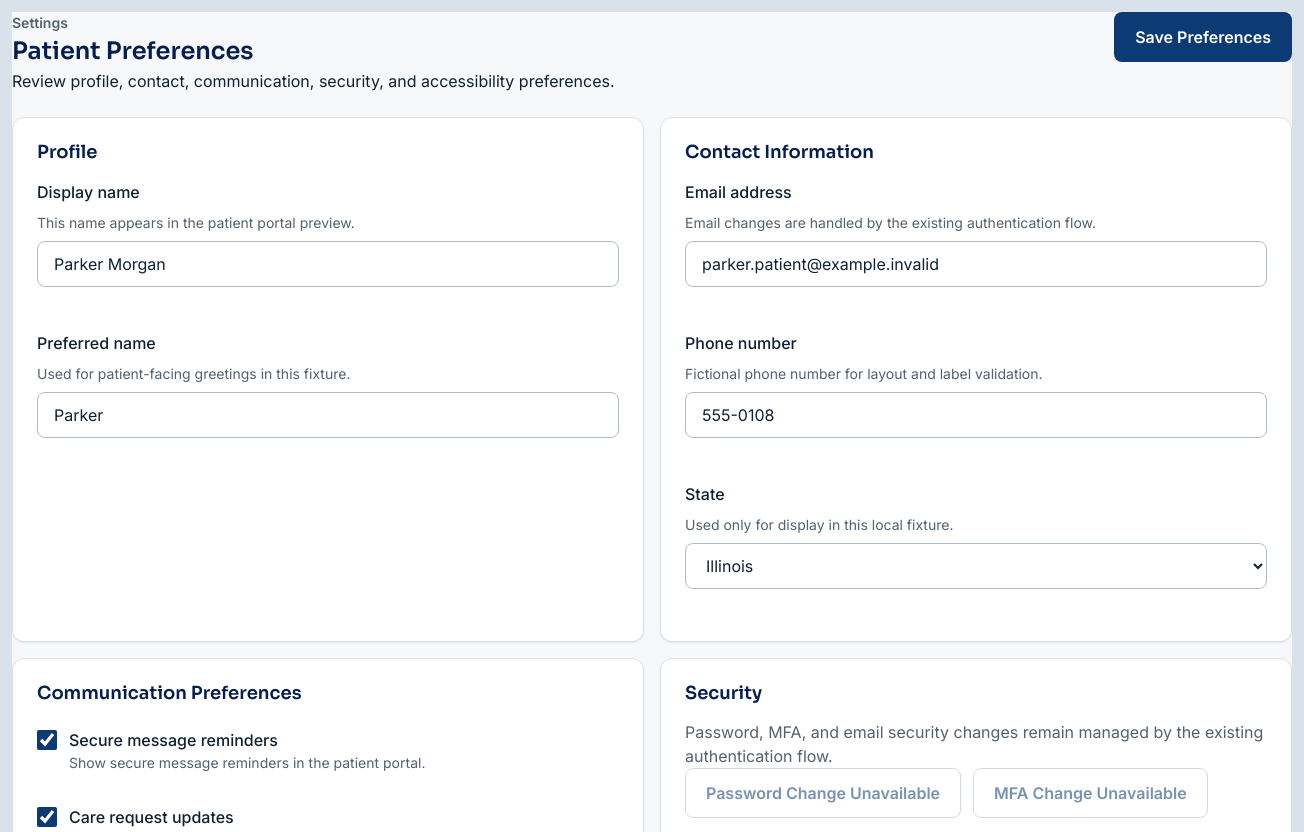
Test: billing and settings safeguards › uses associated settings labels and announces save confirmation
Check: the field labelled "Display name" holds "Parker Morgan", box [38,242,618,286]
Check: the field labelled "Email address" holds "parker.patient@example.invalid", box [686,242,1266,286]
Click the button "Save Preferences": (1203, 37) [1114,12,1292,62]
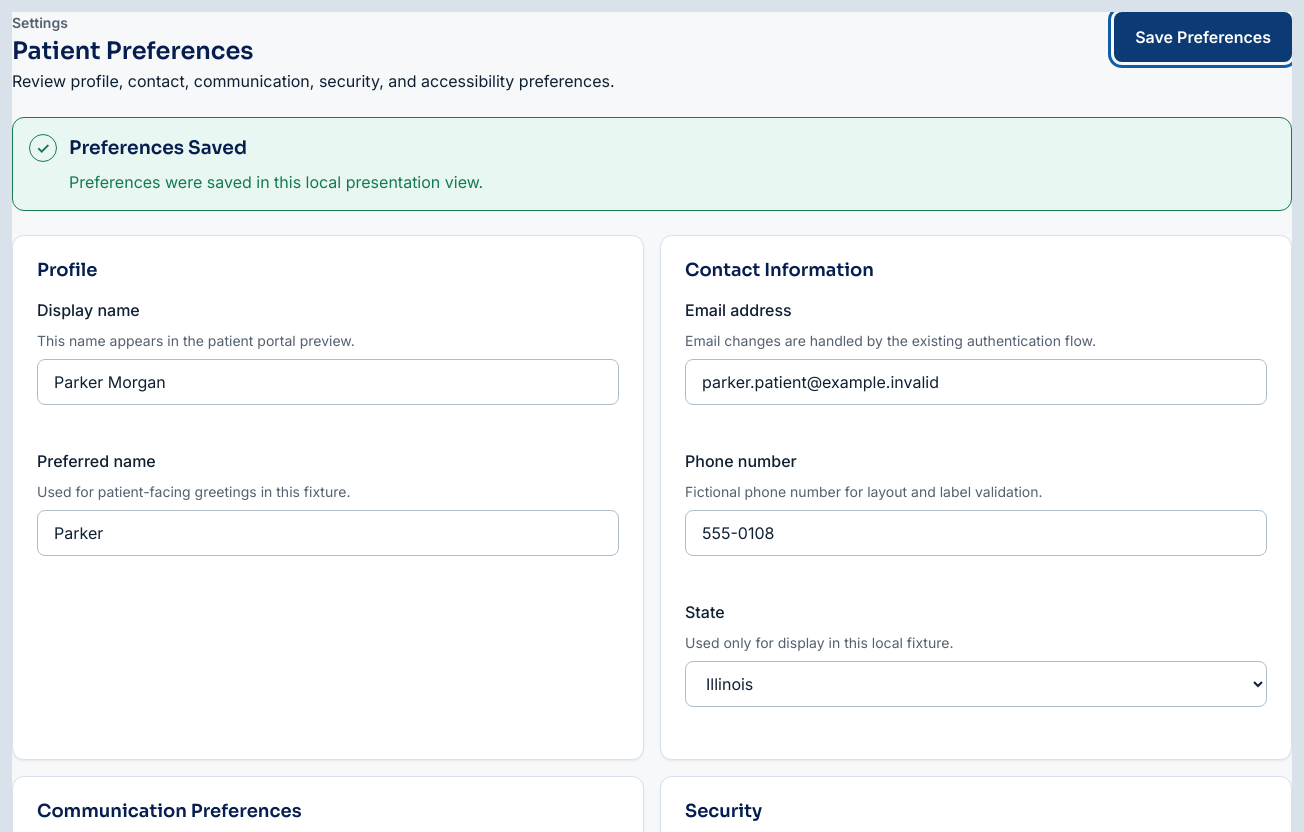
Check: the message shows "Preferences Saved", box [69,136,247,159]
